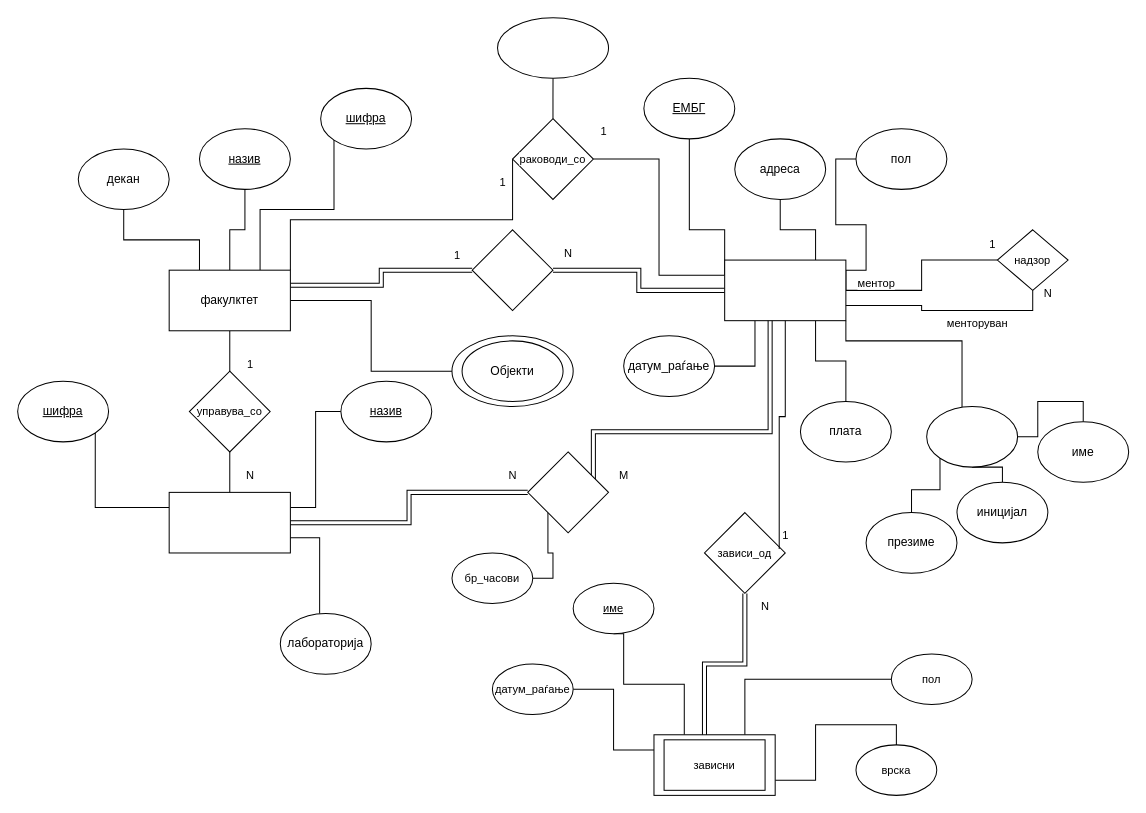
Image size: 1146x813. Some labels were removed from this diagram. Here are the shapes that lost their labels. From the top down, the centre of each, then its label:
At [553,47]: "датум_почетен".
At [512,270]: "работи_во".
At [785,290]: "вработен".
At [972,436]: "контакт".
At [568,492]: "работи_на".
At [229,522]: "проект".
